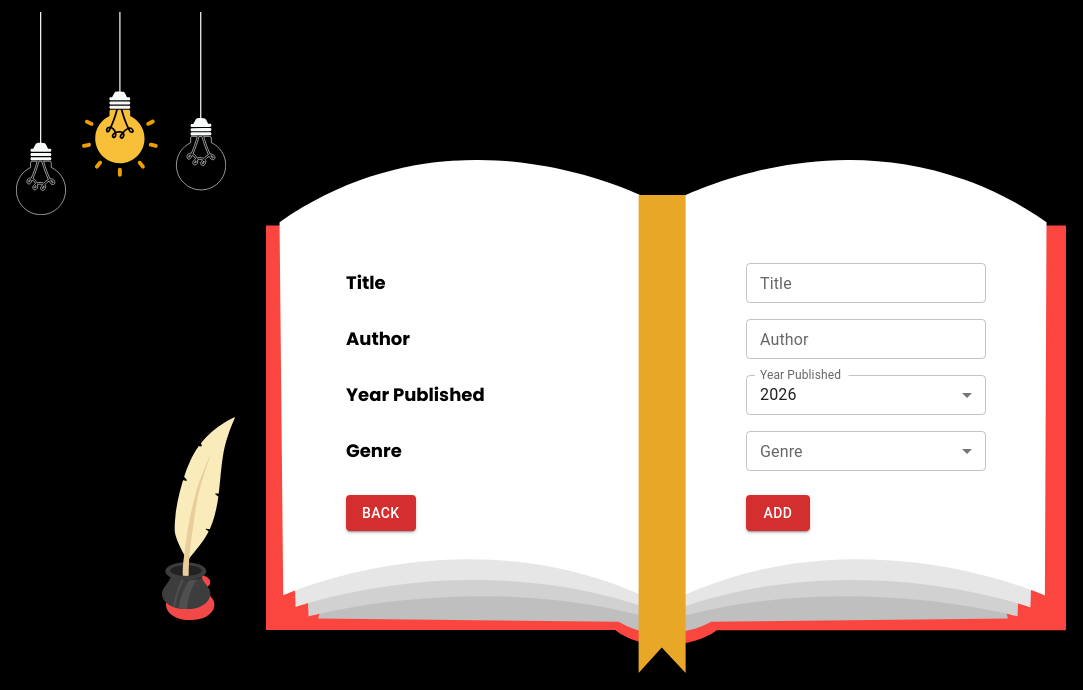
it: CreateBook component › show validation message
The image size is (1083, 690).
Click the button with test id "add": {"x": 778, "y": 513} [746,495,810,531]
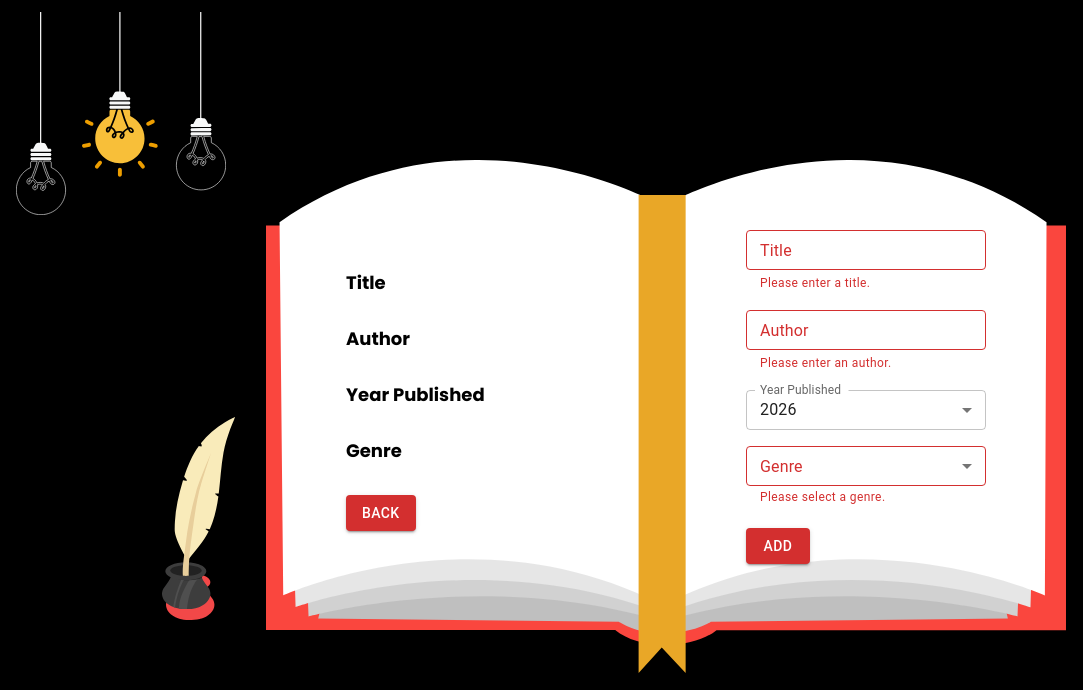
Expected: the text "Please enter a title." is shown, [760,276,870,290]
Expected: the text "Please enter an author." is shown, [760,356,892,370]
Expected: the text "Please select a genre." is shown, [760,490,886,504]
